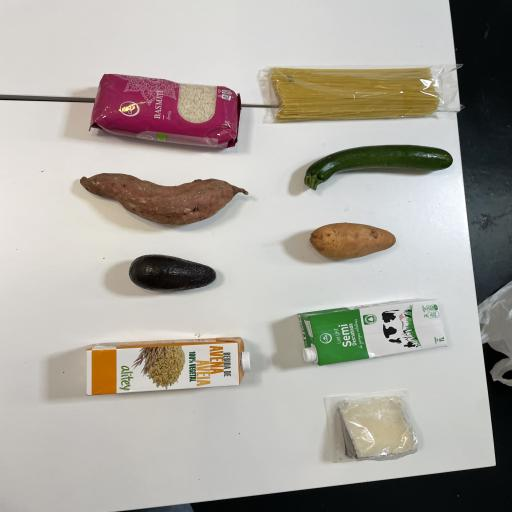avocado: (128, 249, 221, 296)
courgette: (298, 141, 459, 193)
cured_goat_cheese: (336, 393, 418, 462)
milk: (296, 296, 450, 368)
oat_milk: (83, 331, 252, 401)
rice: (88, 68, 248, 159)
spaghetti: (258, 54, 447, 132)
sweet_potato: (78, 164, 250, 236), (310, 218, 401, 262)
